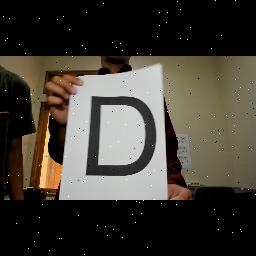d: (82, 94, 162, 184)
